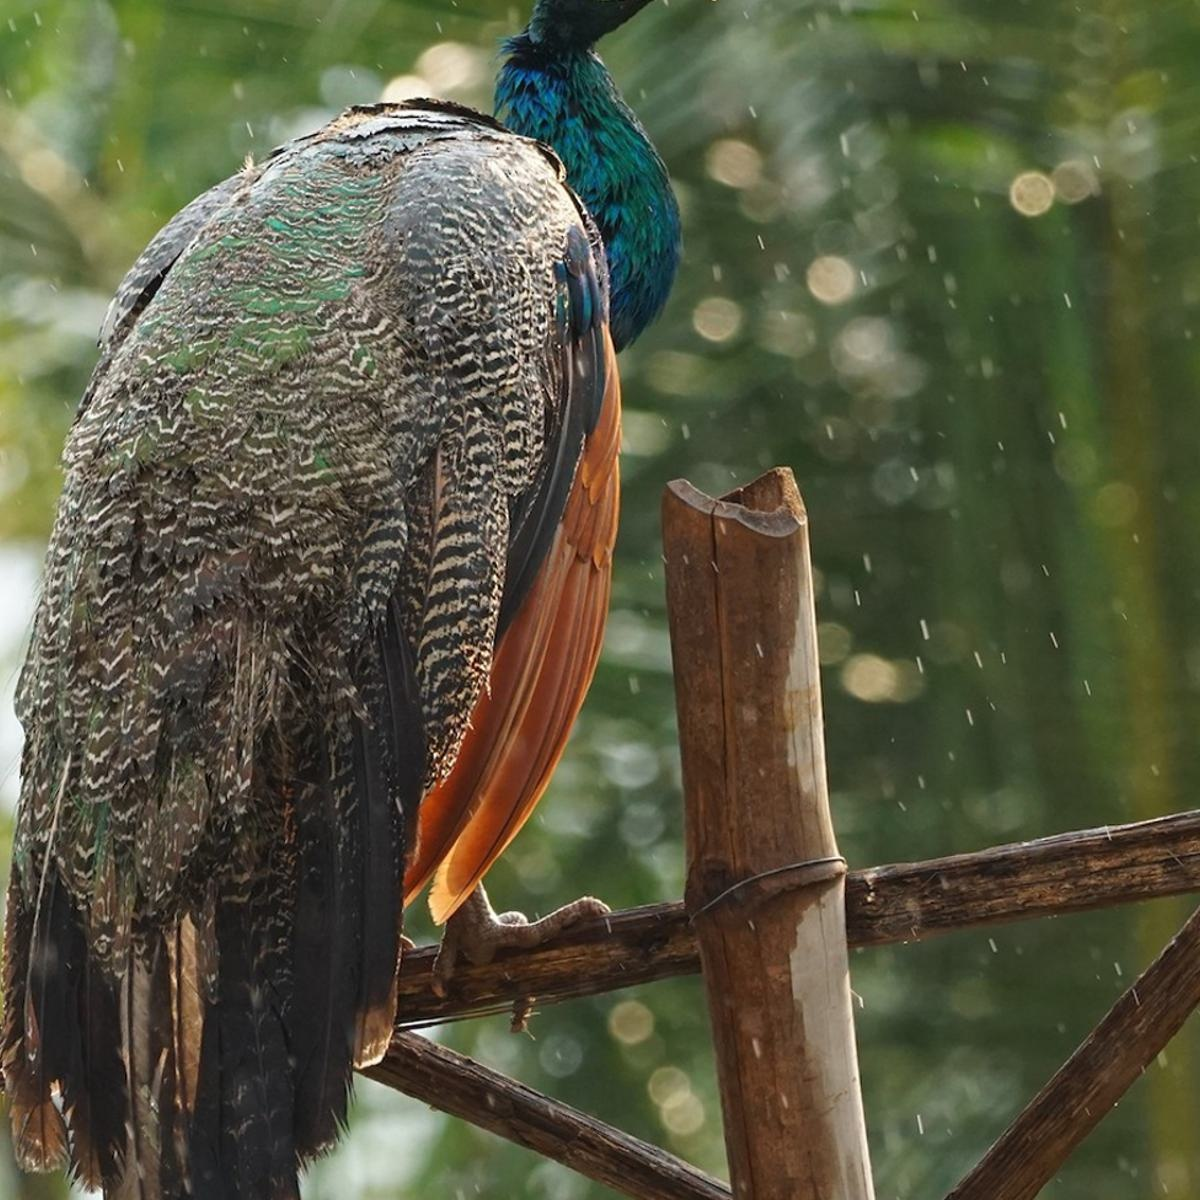peacock: (1, 24, 738, 1075)
